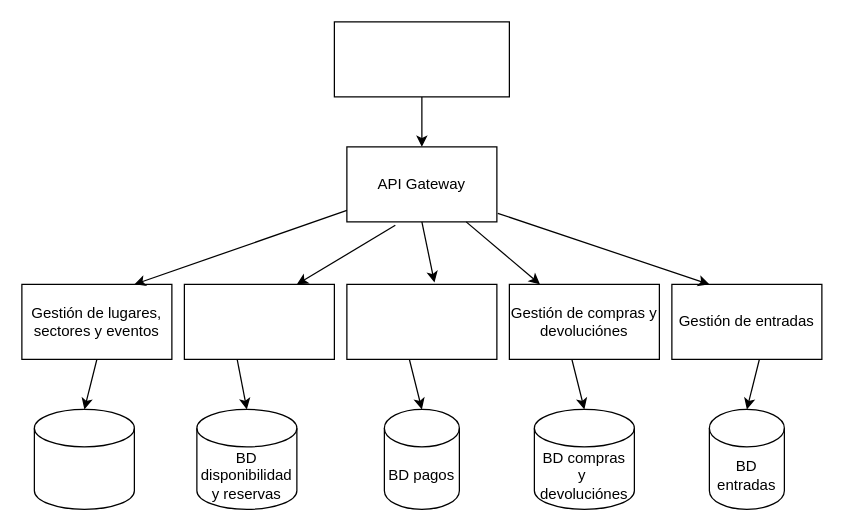
The diagram is 844 pixels wide and 531 high, and some of its shapes have lost their labels. Each missing label, with the centre of its shape:
"Aplicaciones externas" goes at point (421, 59).
"BD lugares, sectores y eventos" goes at point (83, 458).
"Gestión de disponibilidad y reservas" goes at point (258, 321).
"Gestión de pagos" goes at point (421, 321).
